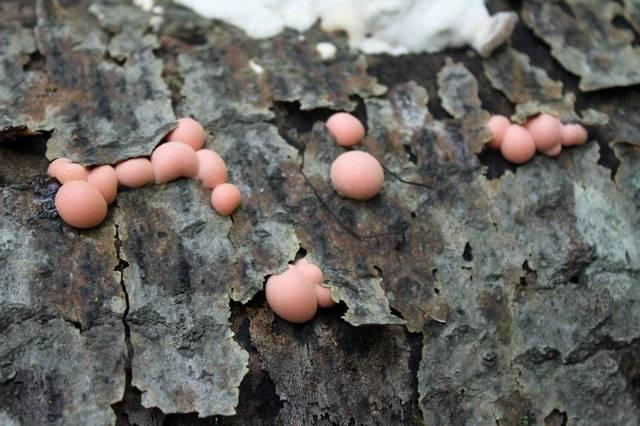Non-edible Mushroom: (45, 115, 241, 229), (263, 256, 336, 323), (328, 149, 384, 200), (53, 178, 107, 229), (324, 110, 365, 147), (499, 123, 535, 163), (209, 181, 241, 216)
